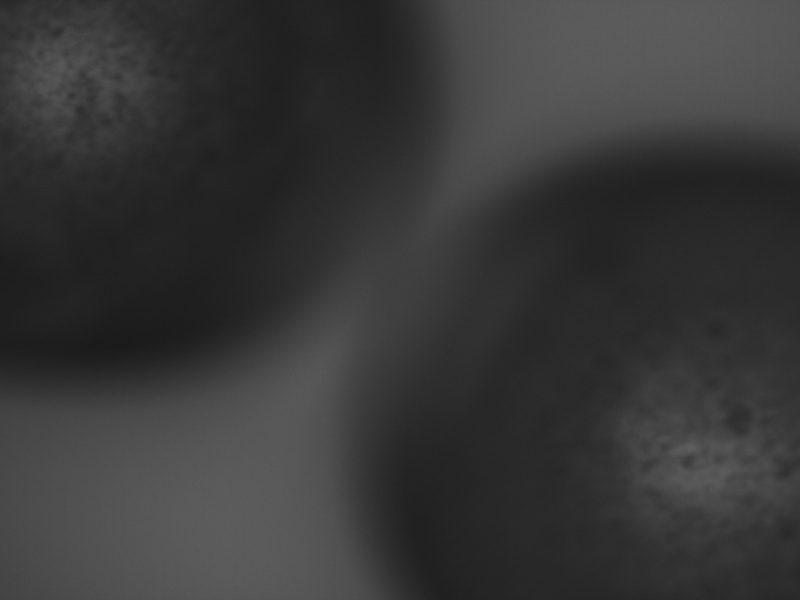bead: (349, 136, 800, 599), (1, 1, 450, 402)
